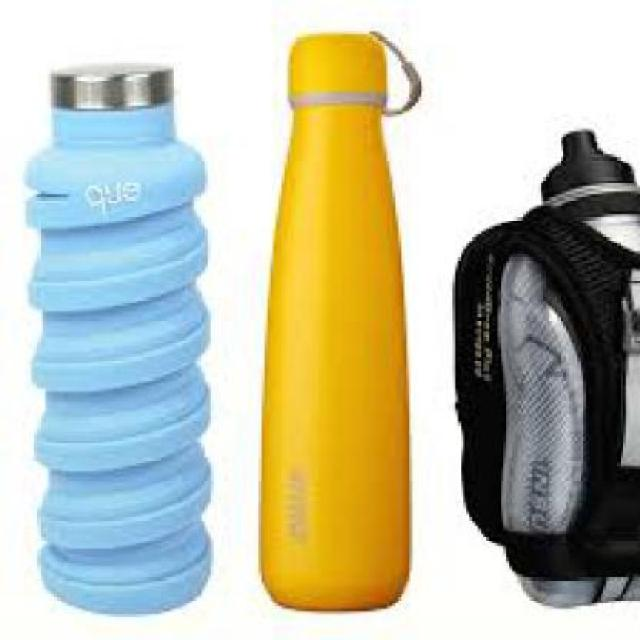Drinking: (245, 2, 432, 598), (22, 55, 216, 614)
